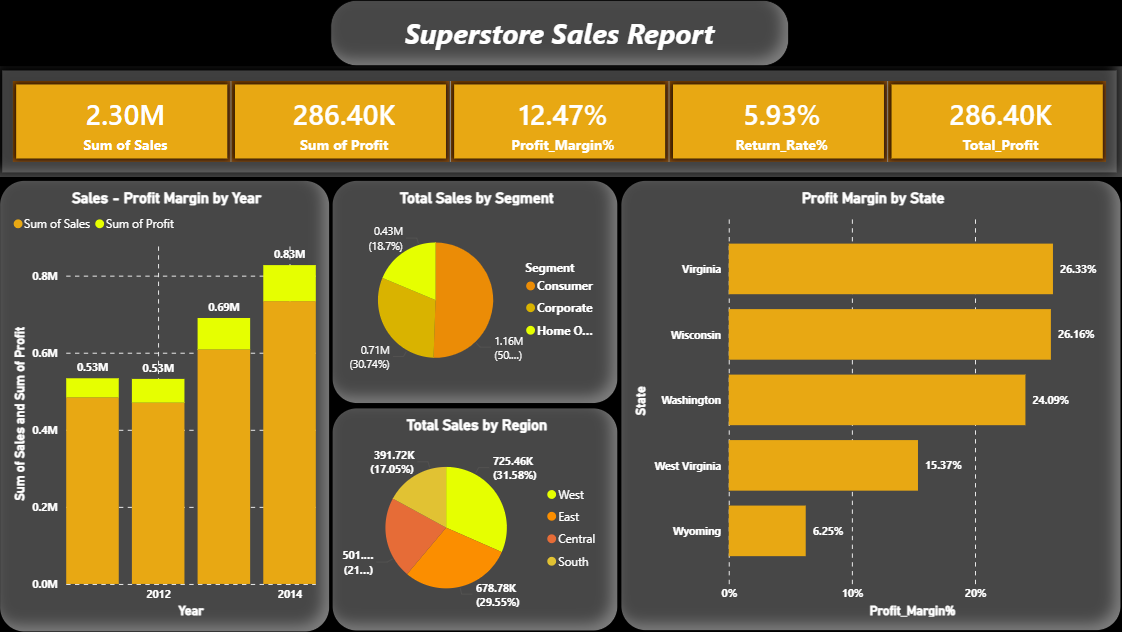

This screenshot's page, from the dashboard's own definition file:
{"tool":"powerbi","page":{"name":"Page 1","canvas":[1280,720],"ordinal":0},"visuals":[{"type":"textbox","box":[378.7,0,521.4,75.5],"z":0},{"type":"cardVisual","fields":{"Data":["Sum(Orders.Sales)","Sum(Orders.Profit)","Orders.Profit_Margin%","Orders.Return_Rate%","Orders.Total_Profit"]},"box":[0,76,1280,126.7],"z":1000},{"type":"columnChart","title":" Sales - Profit Margin by Year","fields":{"Category":["Orders.Order Date.Variation.Date Hierarchy.Year"],"Y":["Sum(Orders.Sales)","Sum(Orders.Profit)"]},"box":[0,202.7,378.8,517.6],"z":2000},{"type":"pieChart","title":"Total Sales by Segment","fields":{"Category":["Orders.Segment"],"Y":["Orders.Total_Sales"]},"box":[378.3,203.4,328.5,257.4],"z":3000},{"type":"pieChart","title":"Total Sales by Region","fields":{"Y":["Orders.Total_Sales"],"Category":["Orders.Region"]},"box":[378.3,462.2,328.5,257.4],"z":4000},{"type":"clusteredBarChart","title":"Profit Margin by State","fields":{"Y":["Orders.Profit_Margin%"],"Category":["Orders.State"]},"box":[706.8,203.4,573.2,516.3],"z":5000}]}

Visuals, with their boxes in screenshot pixels (x1, y1, x2, y2), scaled from the page's 1280x720 canvas onto the 1122x632 screenshot:
textbox: x1=332, y1=0, x2=789, y2=66
cardVisual - Sum(Orders.Sales) x Sum(Orders.Profit): x1=0, y1=67, x2=1121, y2=178
" Sales - Profit Margin by Year" columnChart: x1=0, y1=178, x2=332, y2=631
"Total Sales by Segment" pieChart: x1=332, y1=179, x2=620, y2=404
"Total Sales by Region" pieChart: x1=332, y1=406, x2=620, y2=631
"Profit Margin by State" clusteredBarChart: x1=620, y1=179, x2=1121, y2=631
